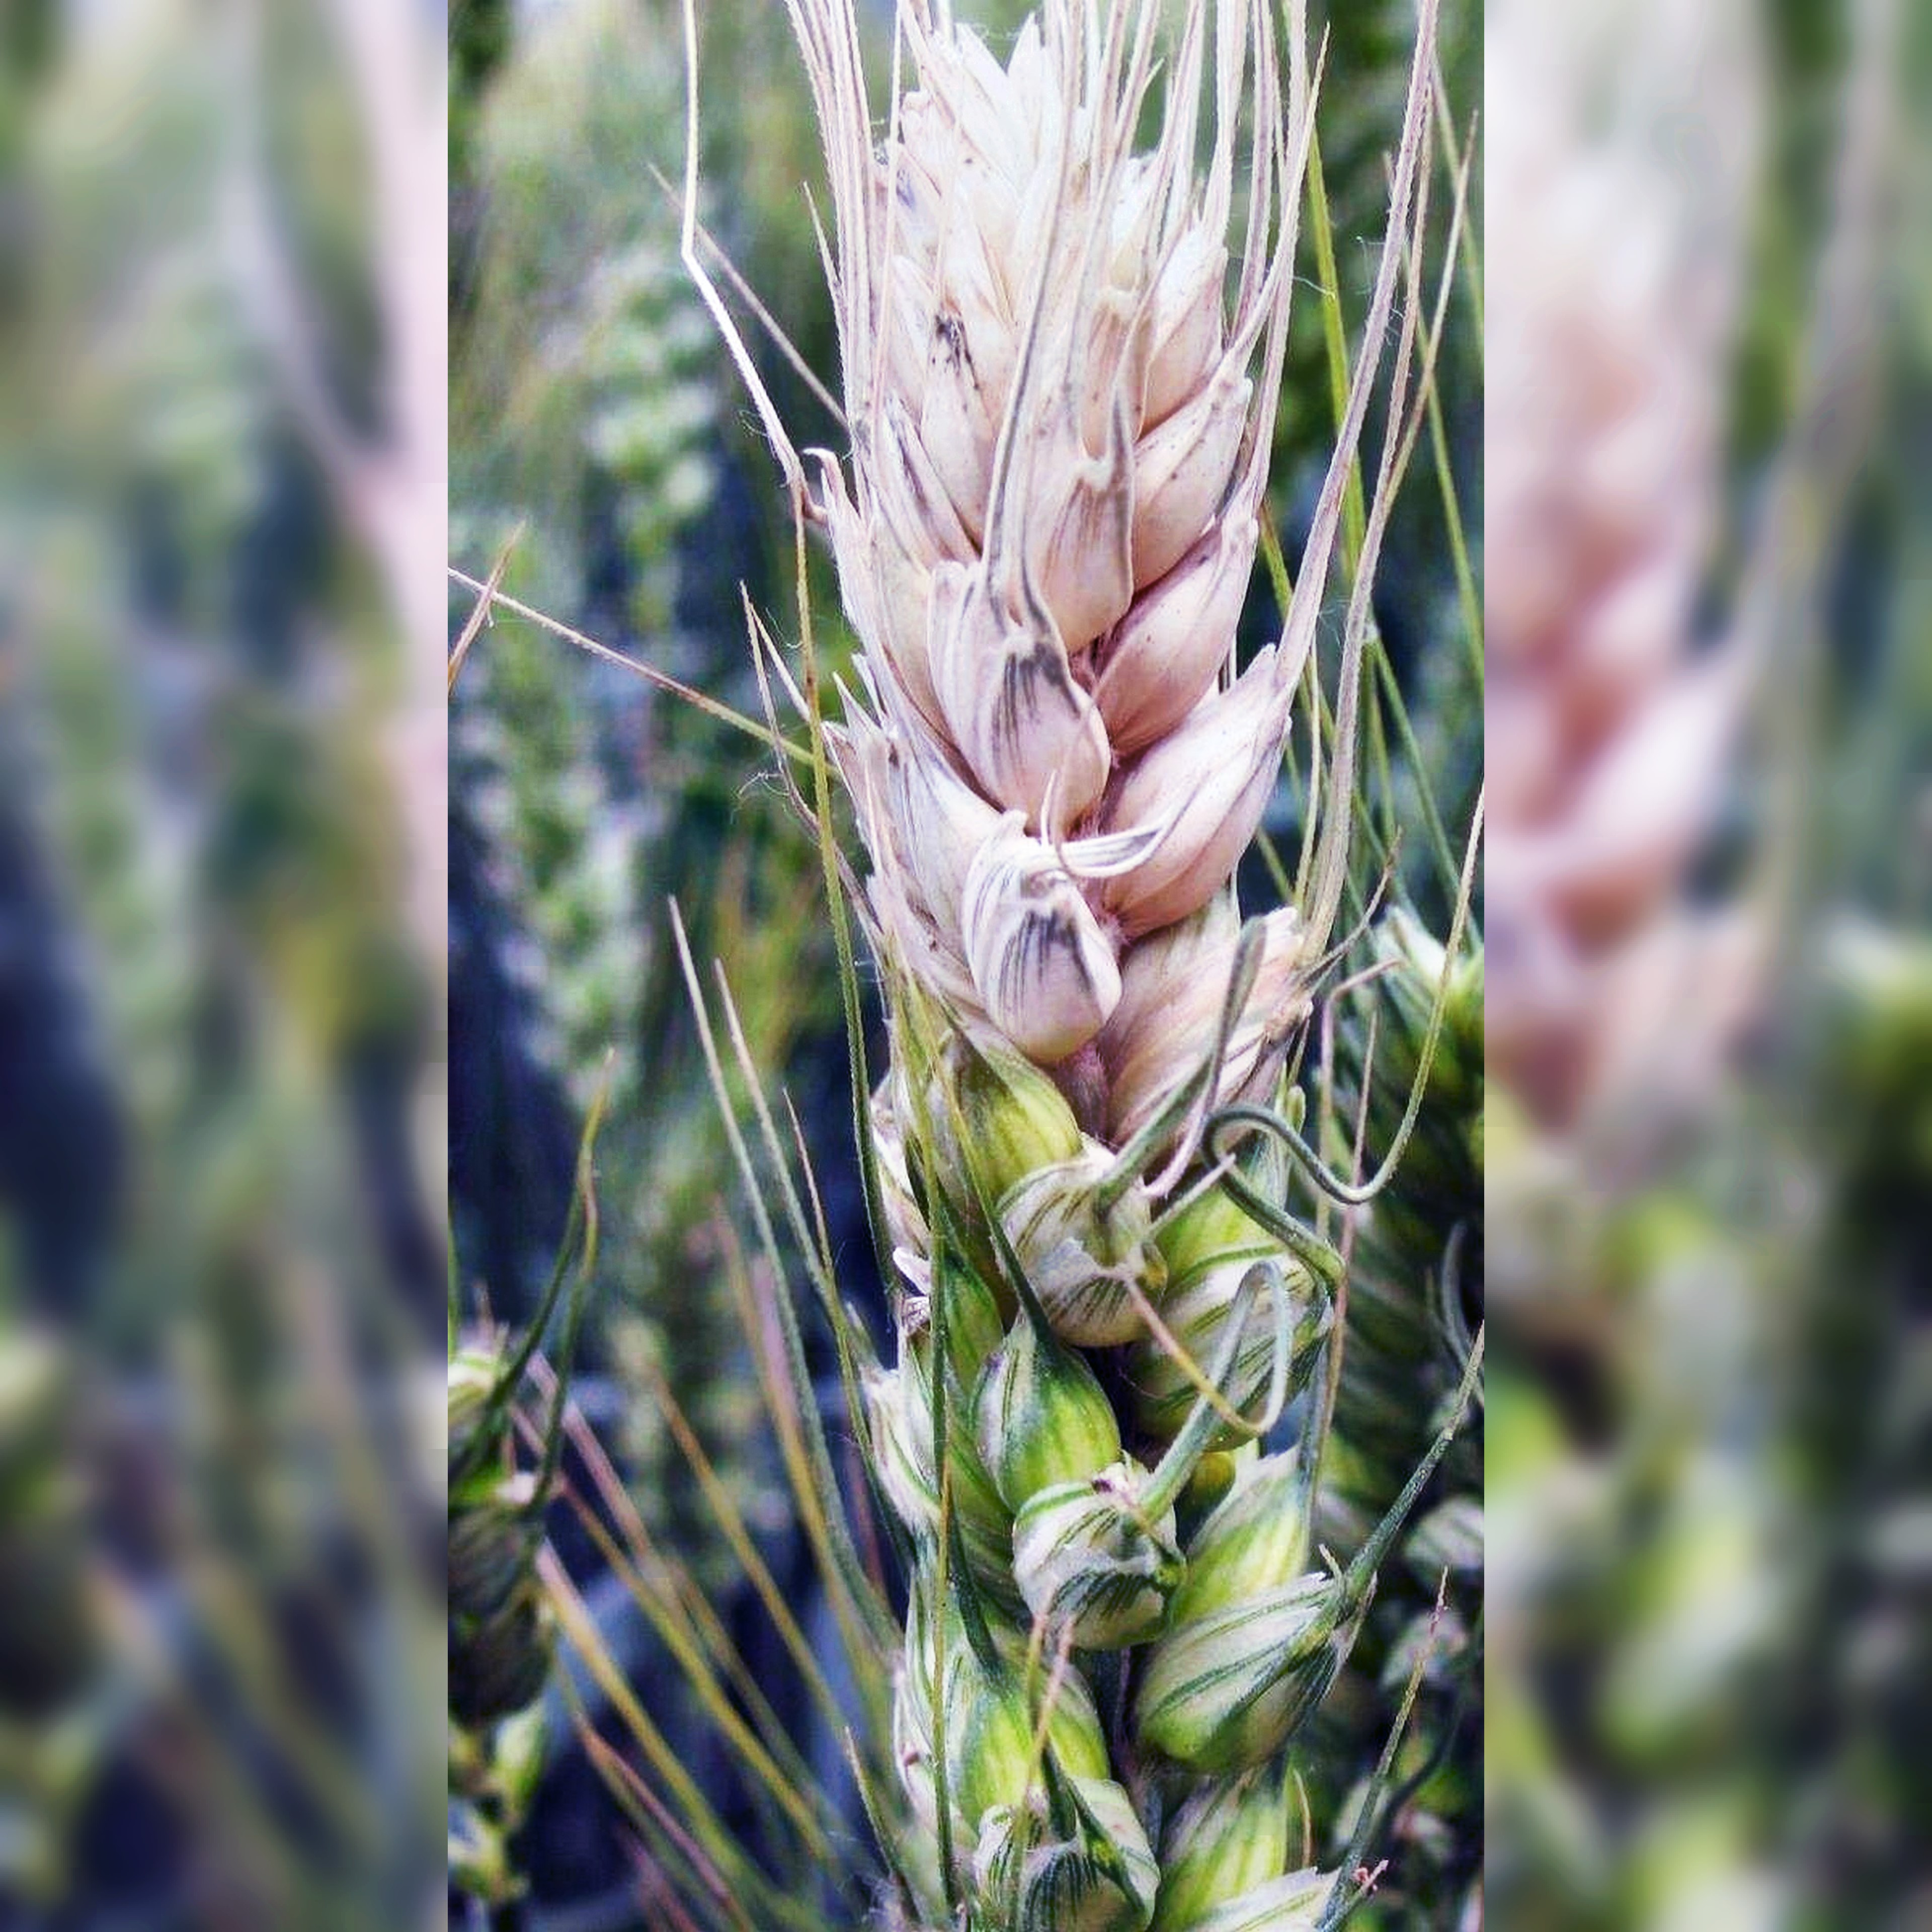Wheat scab: (702, 53, 1422, 1882)
